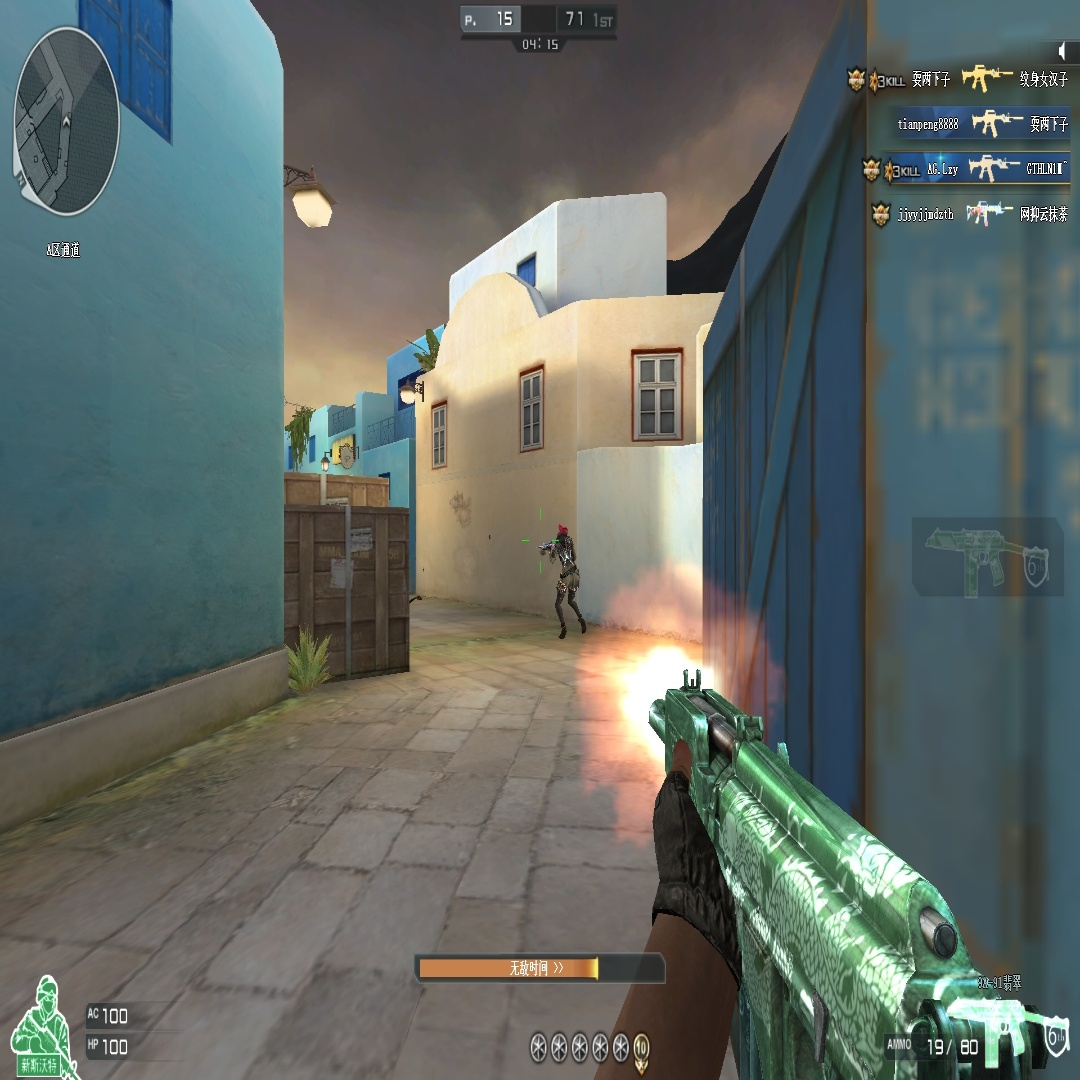p: (539, 525, 588, 639)
